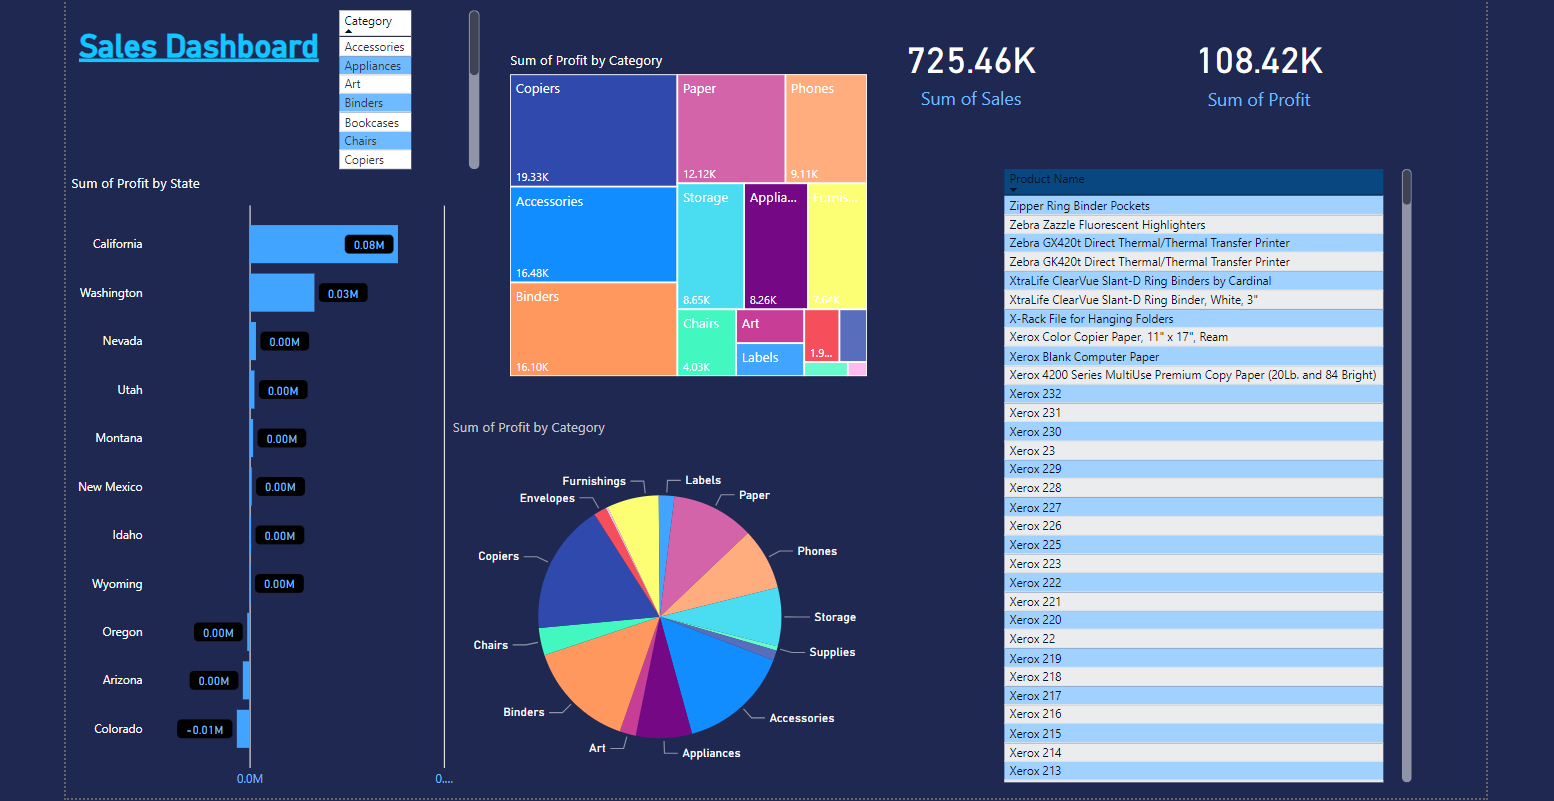

The dashboard page shown, as its layout file describes it:
{"tool":"powerbi","page":{"name":"Page 1","canvas":[1280,720],"ordinal":0},"visuals":[{"type":"barChart","fields":{"Category":["Walmart.State"],"Y":["Sum(Walmart.Profit)"]},"box":[0,157,354.7,562.8],"z":0},{"type":"treemap","fields":{"Values":["Sum(Walmart.Profit)"],"Details":["Walmart.Category"]},"box":[395.5,46.2,331.3,297.5],"z":1000},{"type":"tableEx","fields":{"Values":["Walmart.Product Name"]},"box":[839.4,147.6,378.6,562.3],"z":2000},{"type":"card","fields":{"Values":["Sum(Walmart.Sales)"]},"box":[704.2,2.3,223.1,120.6],"z":3000},{"type":"card","fields":{"Values":["Sum(Walmart.Profit)"]},"box":[955.5,4.5,240,116.1],"z":4000},{"type":"pieChart","fields":{"Y":["Sum(Walmart.Profit)"],"Series":["Walmart.Category"]},"box":[343.7,376.3,383.1,343.7],"z":5000},{"type":"tableEx","fields":{"Values":["Walmart.Category"]},"box":[240,4.5,137.5,153.2],"z":6000},{"type":"textbox","box":[0,18.6,239.5,102.3],"z":7000}]}

Visuals, with their boxes on the page's 1280x720 design canvas (x1, y1, x2, y2). These are canvas units, not pixel positions in the 1554x801 screenshot, which may show the page scaled, cropped or inside an application window:
barChart - Walmart.State x Sum(Walmart.Profit): 0:157:355:720
treemap - Sum(Walmart.Profit) x Walmart.Category: 396:46:727:344
tableEx - Walmart.Product Name: 839:148:1218:710
card - Sum(Walmart.Sales): 704:2:927:123
card - Sum(Walmart.Profit): 956:4:1196:121
pieChart - Sum(Walmart.Profit) x Walmart.Category: 344:376:727:720
tableEx - Walmart.Category: 240:4:378:158
textbox: 0:19:240:121
